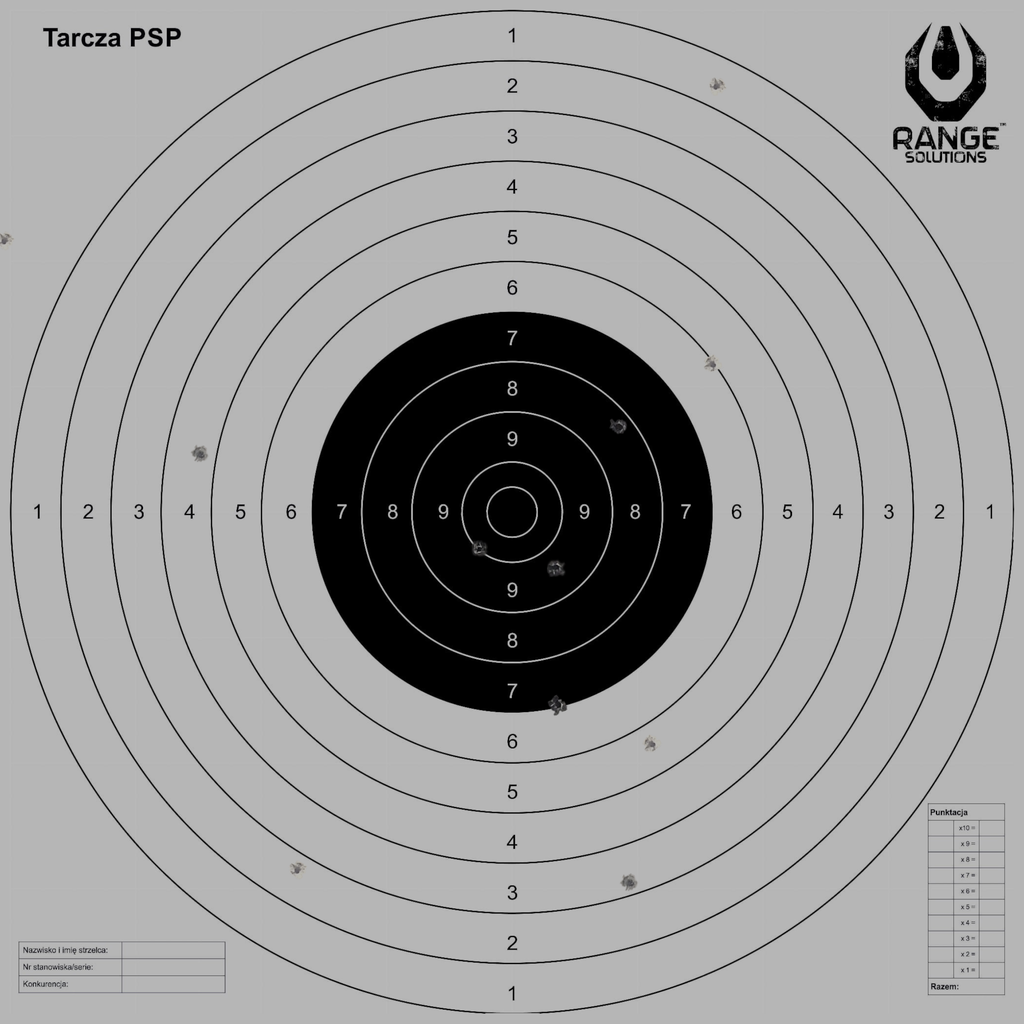0 punktow: (0, 231, 14, 250)
1 punkt: (707, 77, 726, 95)
10 punktow: (470, 540, 488, 559)
2 punkty: (288, 861, 306, 879)
3 punkty: (621, 874, 639, 892)
4 punkty: (191, 445, 210, 464)
5 punktow: (643, 735, 661, 754)
6 punktow: (703, 355, 722, 374)
7 punktow: (548, 695, 567, 714)
8 punktow: (609, 418, 628, 436)
9 punktow: (547, 559, 565, 577)
